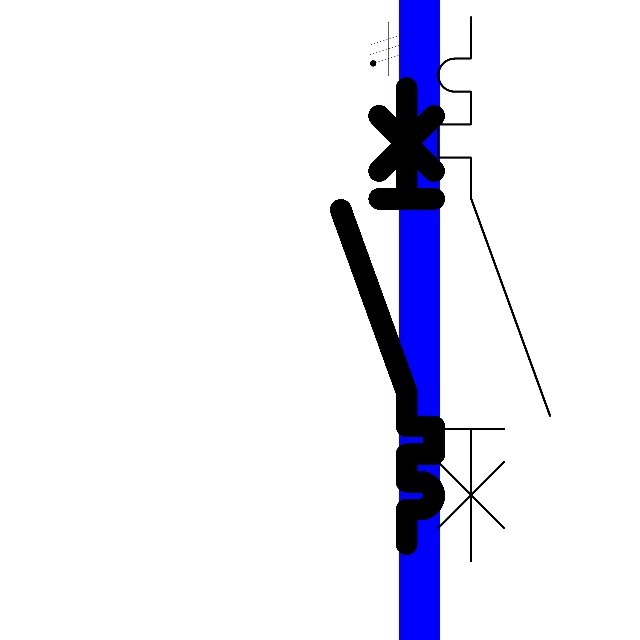interruptor_termomagnetico: (424, 3, 564, 574), (329, 76, 446, 555)
